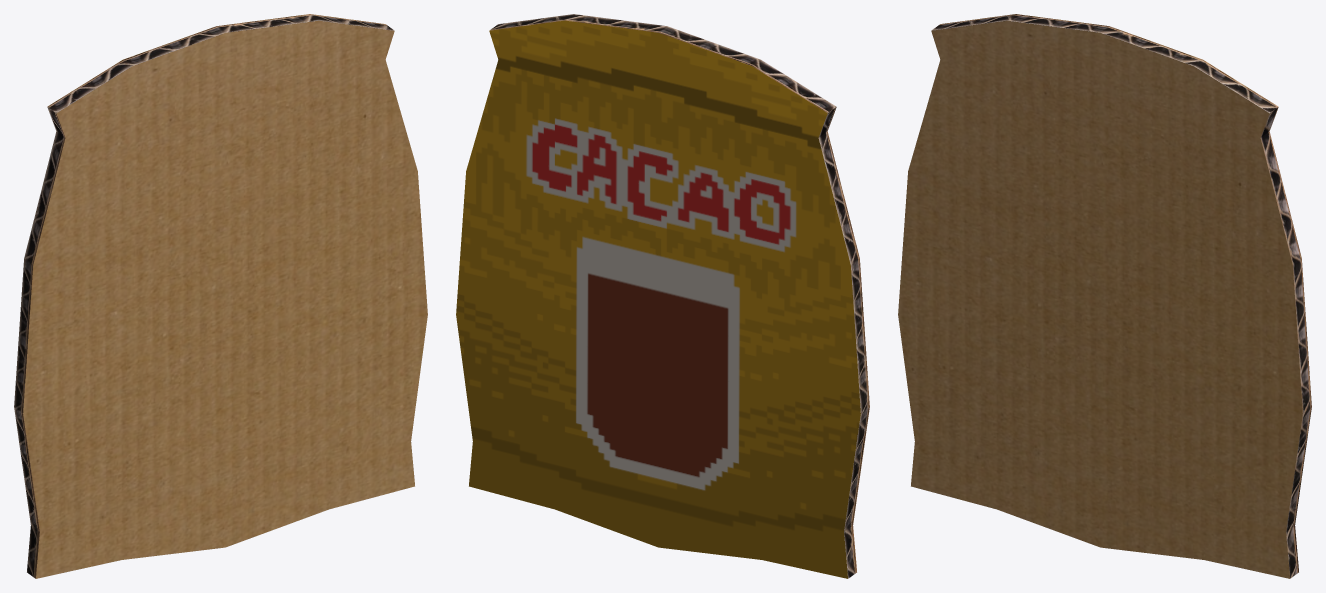
Rendered from CACAO.glb.
3 renders of one model, left to right at view 1: azimuth 30°, elevation 25°; view 2: azimuth 150°, elevation 25°; view 3: azimuth 330°, elevation 25°, orthographic.
Visible parts, largest first — view 1: CACAO; view 2: CACAO; view 3: CACAO.
Part boxes in pixels (box(x1,y1,x2,y2)): CACAO: box(14, 14, 427, 578); CACAO: box(456, 14, 869, 578); CACAO: box(898, 14, 1311, 578).
Bounding box in the file's own units: 3.13 × 3.81 × 0.1214.
1 material, 1 textured.
